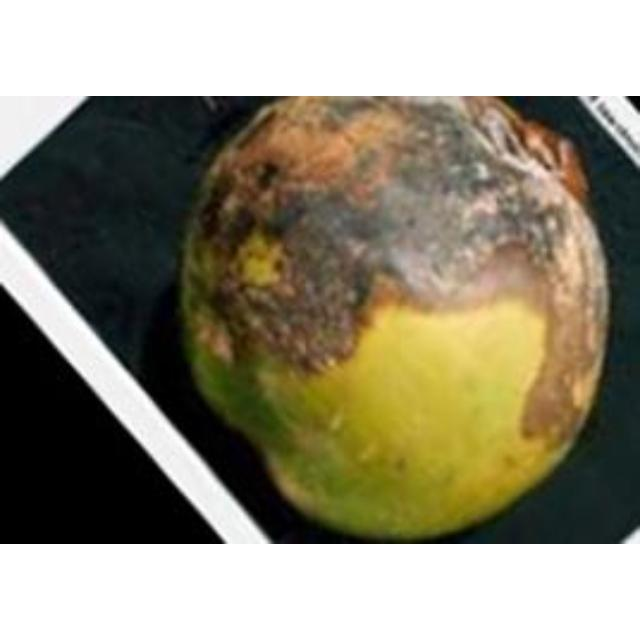damaged: (174, 98, 614, 543)
